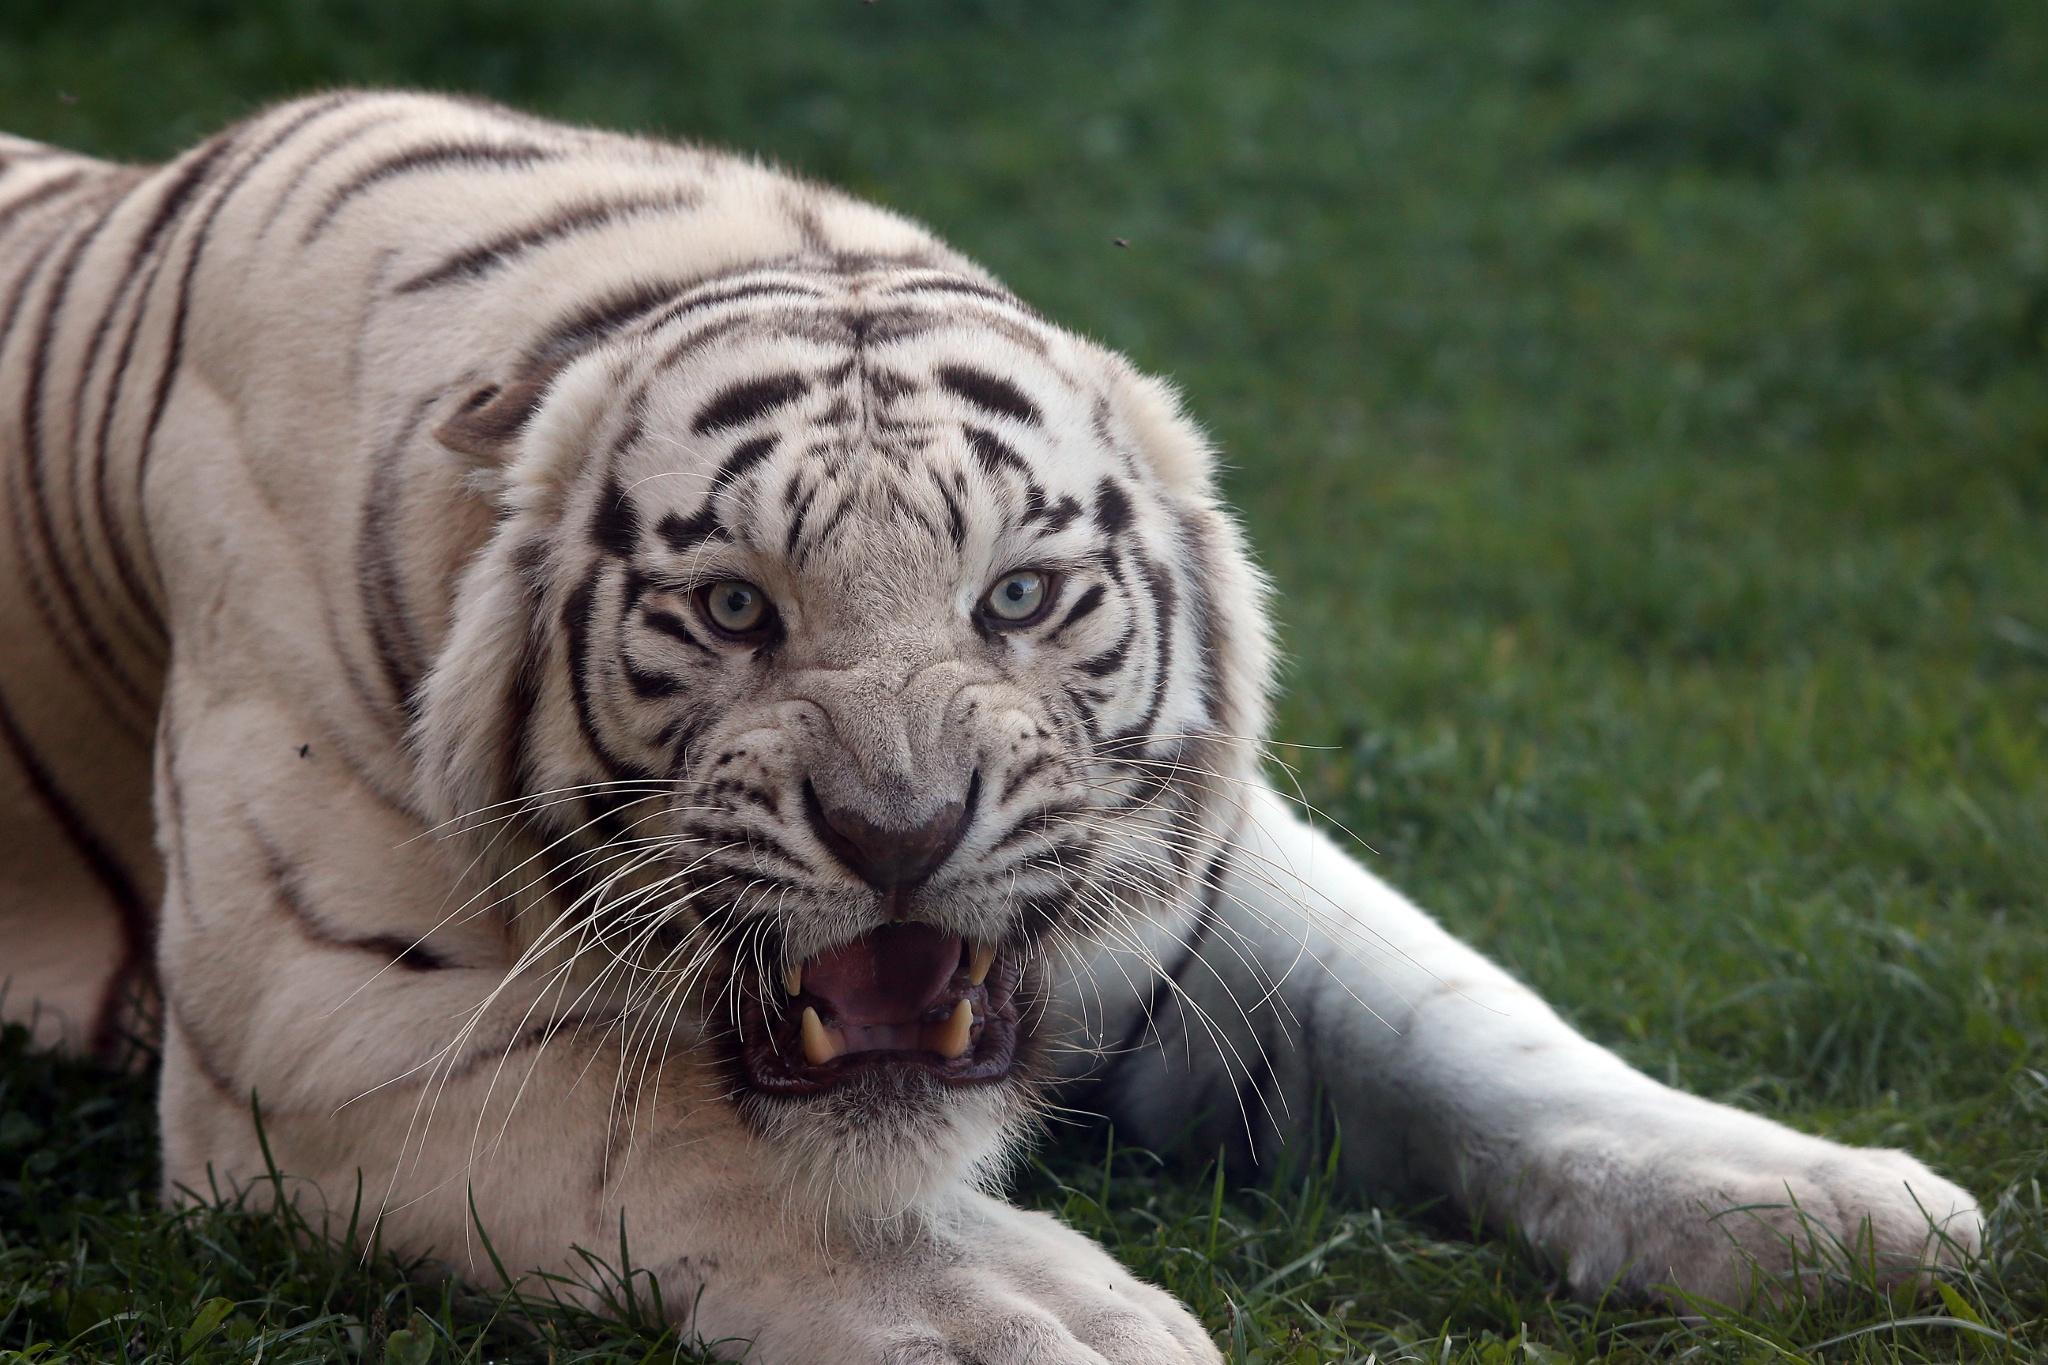tiger: (116, 61, 1447, 1274)
